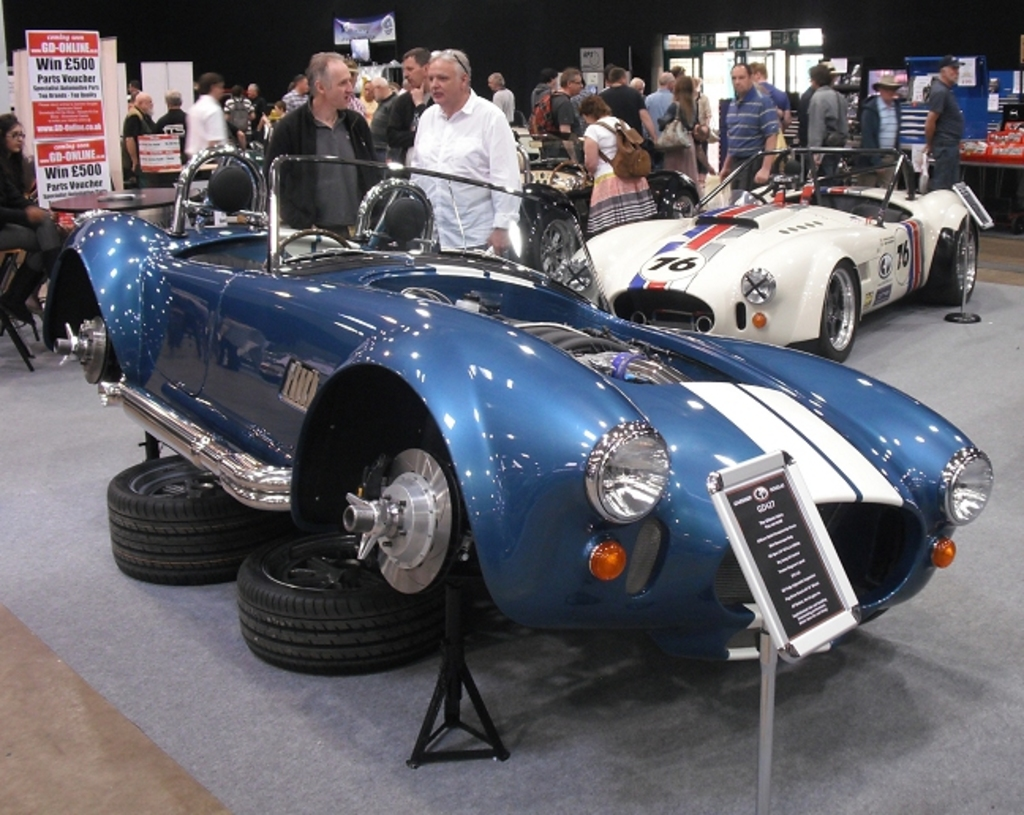Car: (39, 150, 997, 664), (549, 145, 978, 364), (510, 132, 701, 273)
